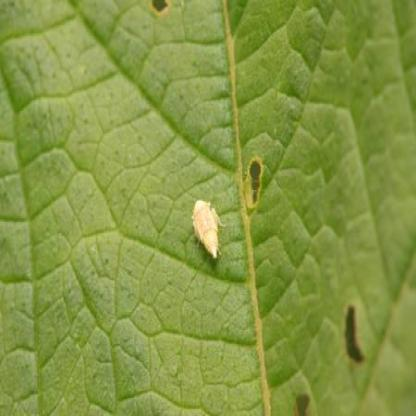Green-Leafhopper: (192, 197, 226, 264)
